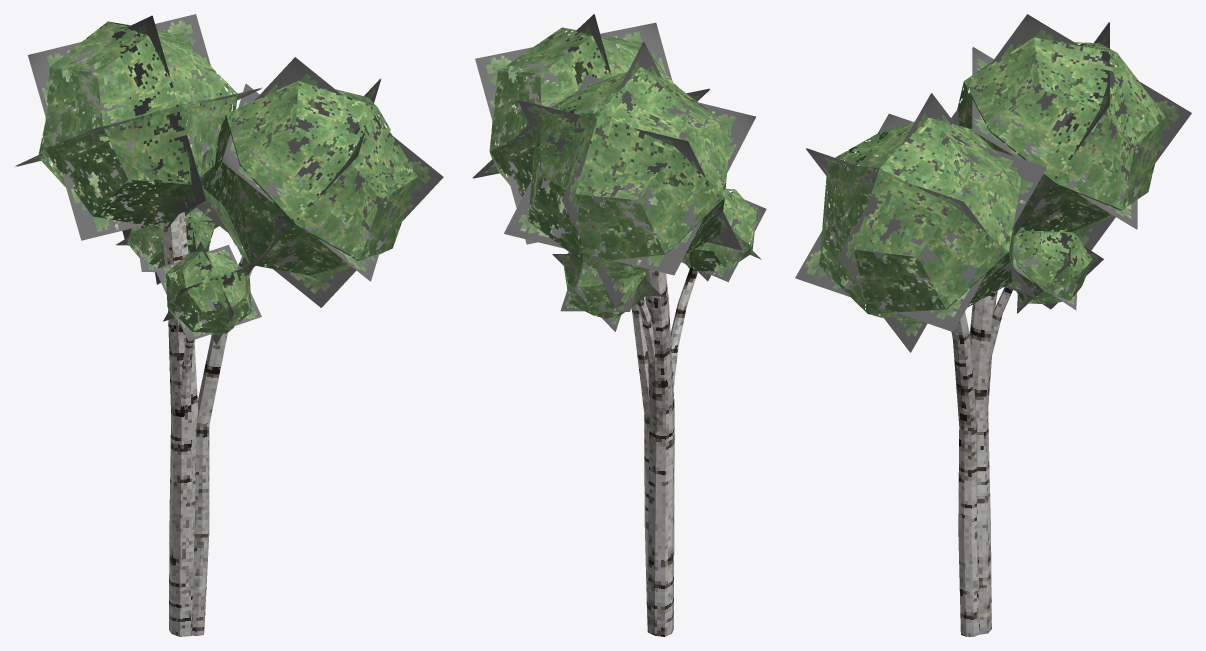
Rendered from birch2.glb.
The picture shows the model from 3 angles, left to right: view 1: azimuth 30°, elevation 25°; view 2: azimuth 150°, elevation 25°; view 3: azimuth 270°, elevation 25°; orthographic projection.
Parts seen in each view (by area): view 1: birch2; view 2: birch2; view 3: birch2.
Part boxes in pixels (bbox=[...]): birch2: bbox=[15, 14, 443, 636]; birch2: bbox=[472, 14, 766, 636]; birch2: bbox=[795, 14, 1191, 636].
Bounding box in the file's own units: 9.39 × 17.95 × 10.56.
3 materials, 3 textured.
